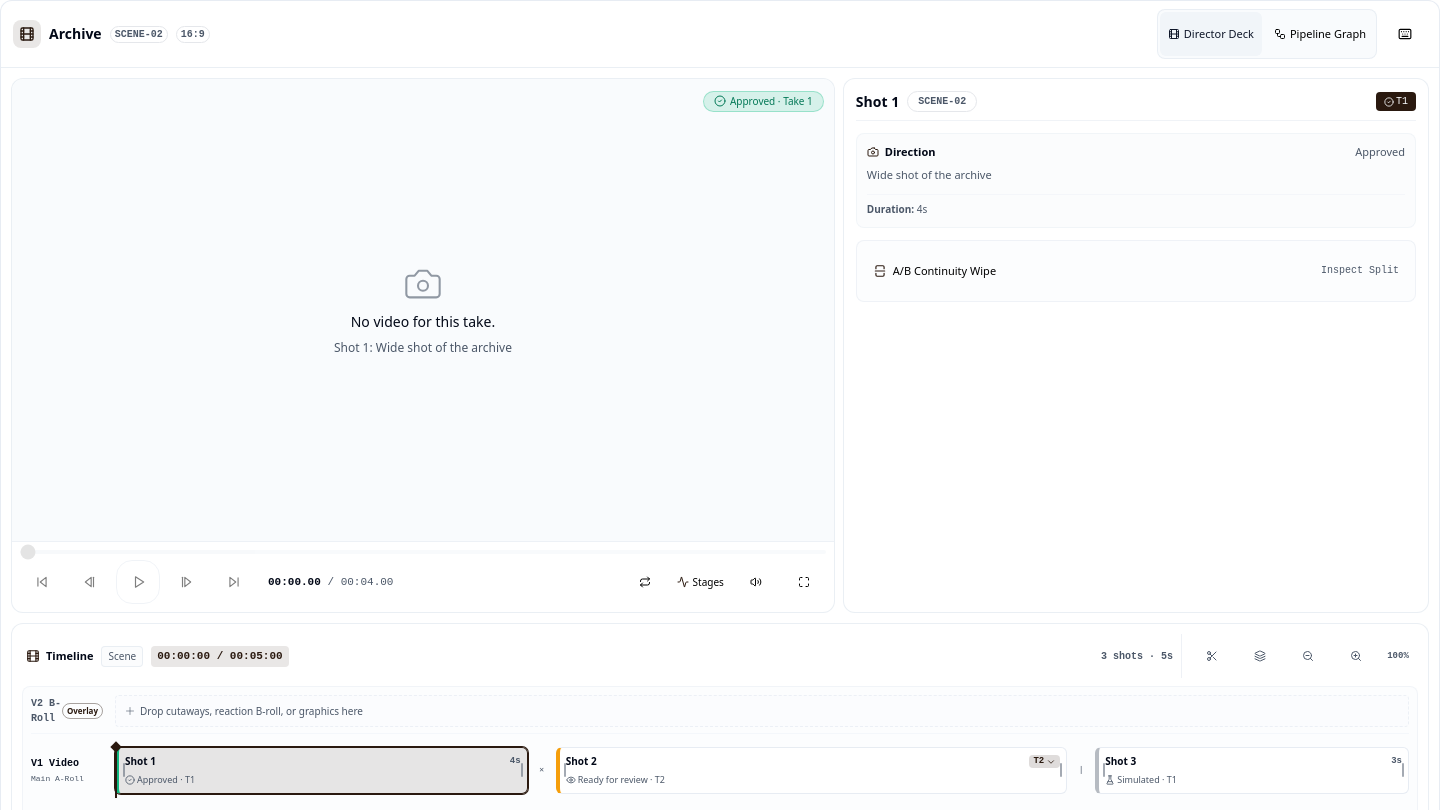
Scenario: MediaStudioPod › shows the scene's shots, with the scene's take for each
This screenshot has width=1440, height=810.
expect the text "Shot 1" in the row of "· Take" is shown: met, box [856,92,899,112]
Click the button with test id "timeline-shot-clip-2": (621, 780) [556,747,1067,794]
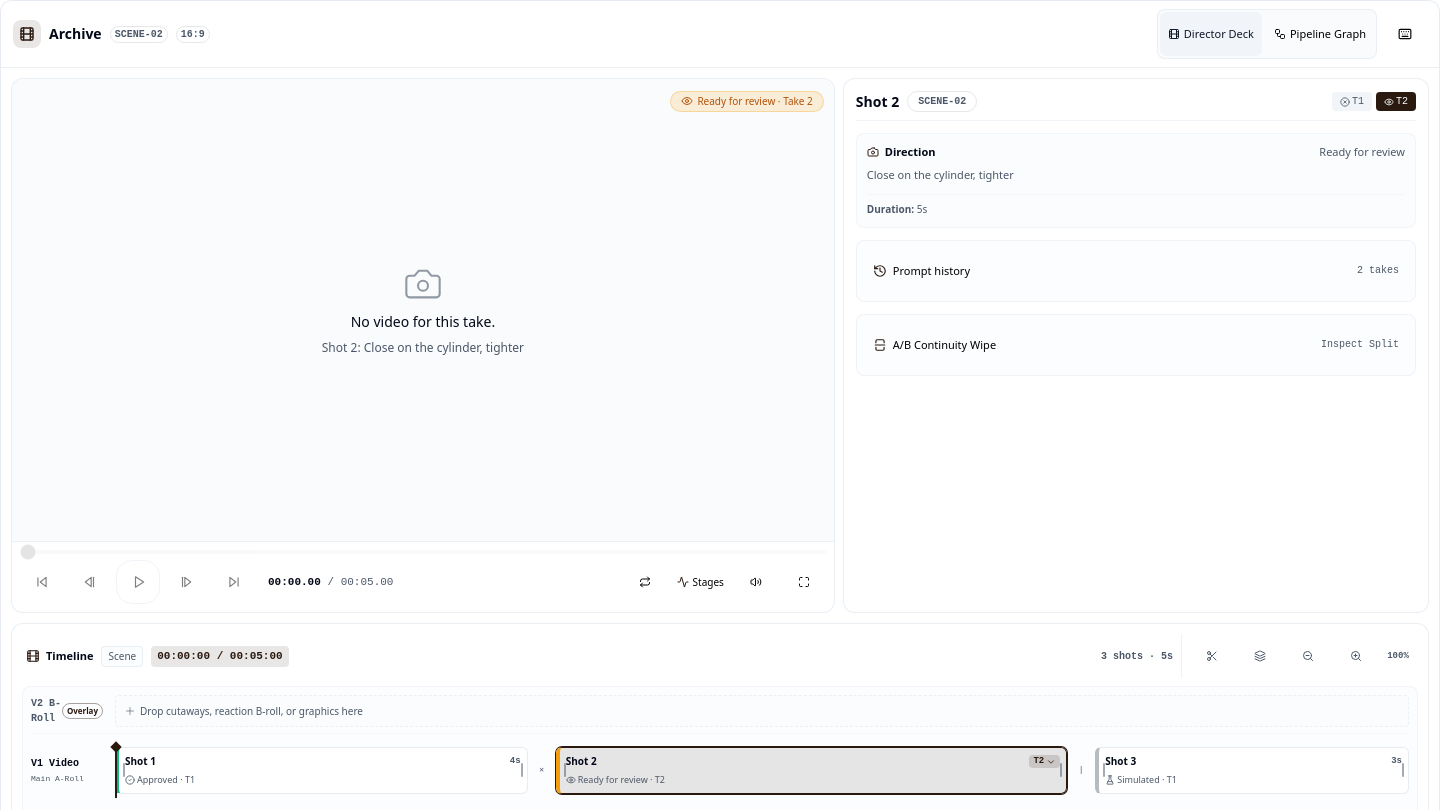
expect the text "Shot 2" in the row of "· Take" is shown: met, box [856,92,899,112]
expect the element with test id "stage-take-status" reads "Ready for review · Take 2": met, box [670,90,824,112]
Click the button with test id "take-selector-tab-1": (1352, 102) [1332,92,1372,111]
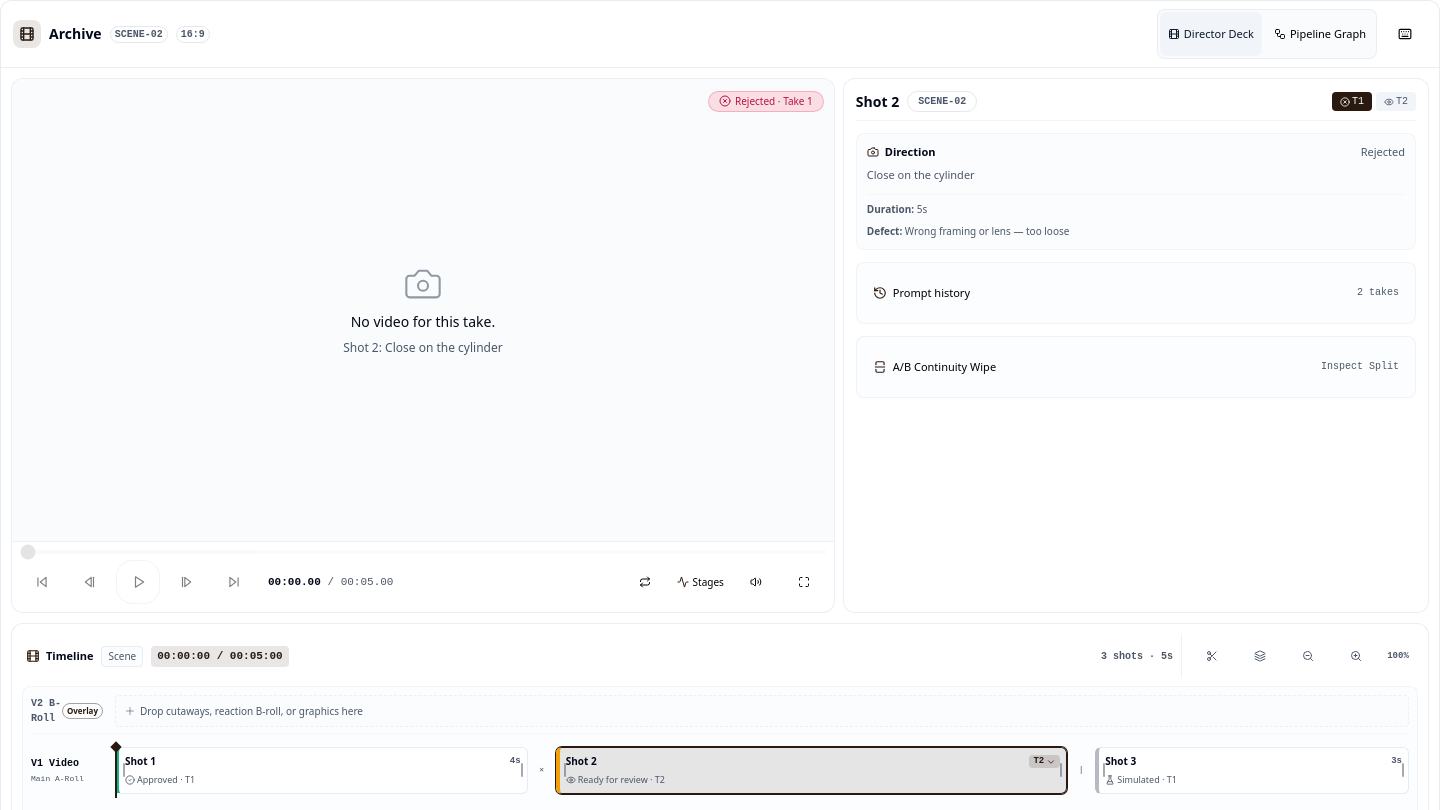
expect the element with test id "stage-take-status" reads "Rejected · Take 1": met, box [708,90,824,112]
expect the text "Defect: Wrong framing or lens — too loose" is shown: met, box [867,224,1069,238]
